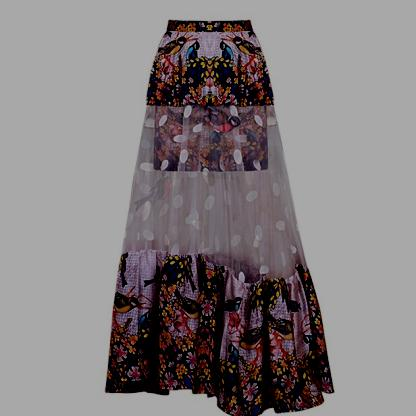dress: (101, 15, 336, 416)
